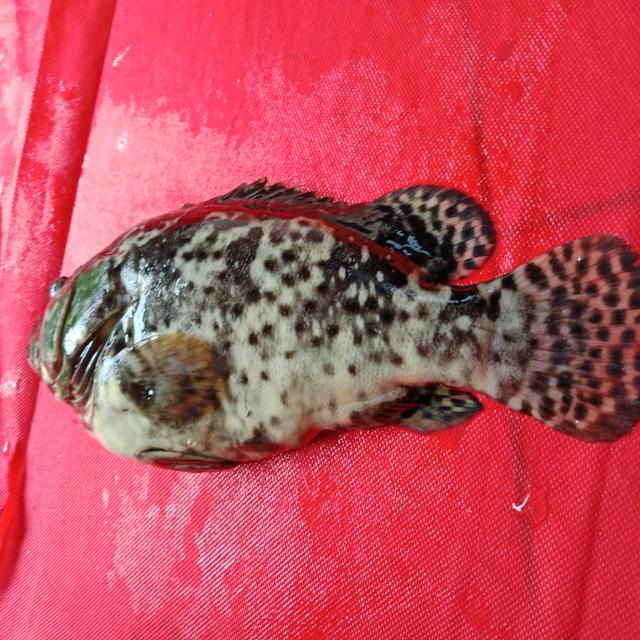ikan: (14, 161, 632, 477)
